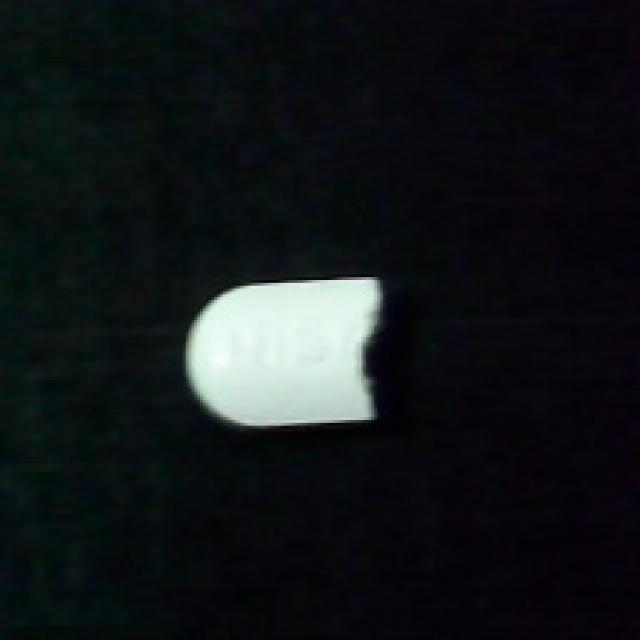defected: (177, 271, 386, 434)
